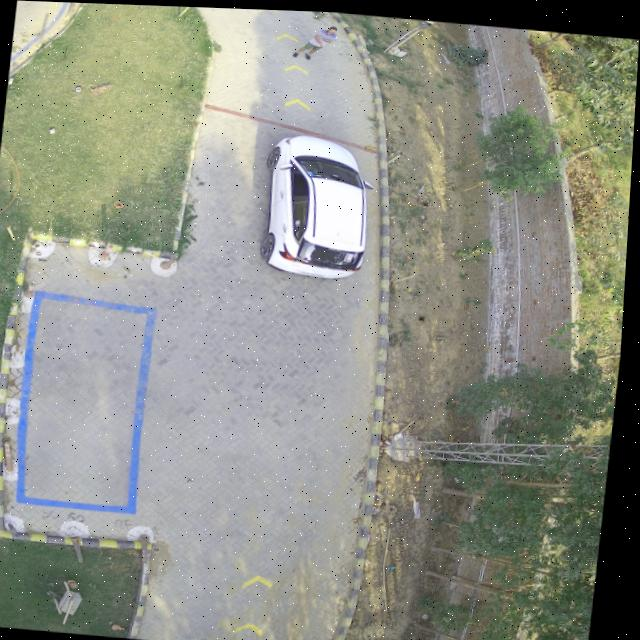car: (262, 133, 368, 277)
